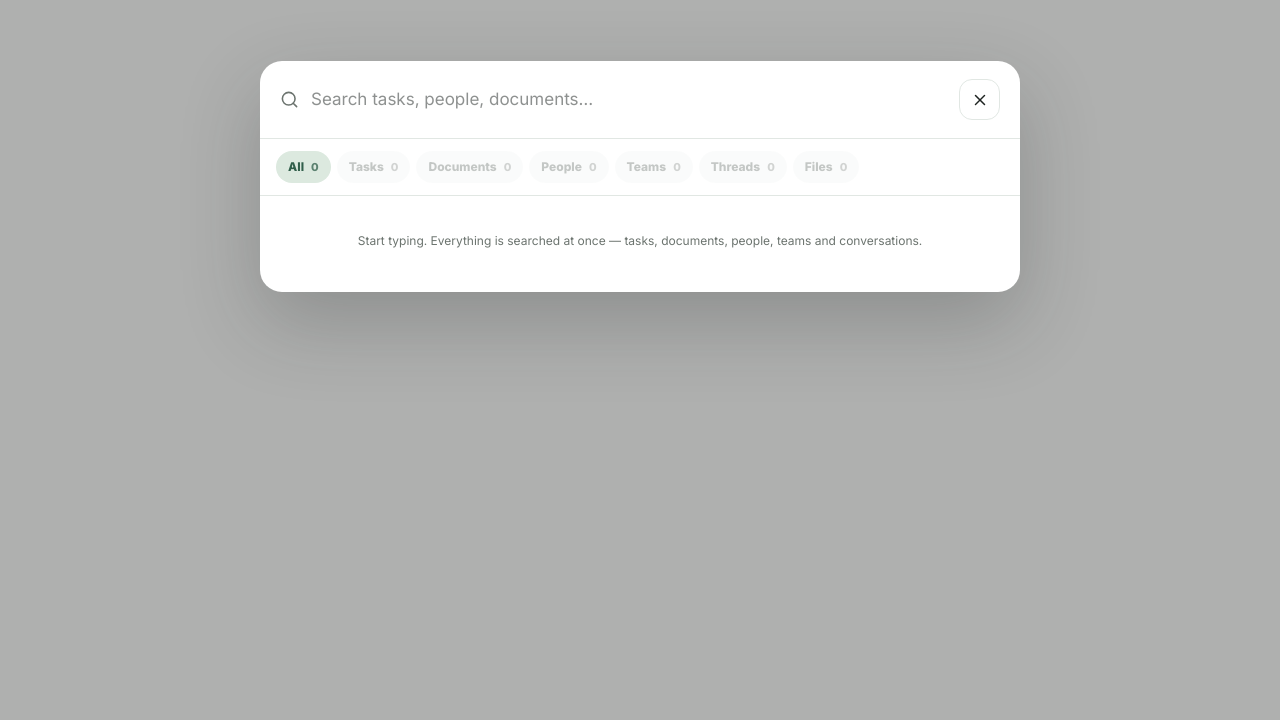
it: SearchOverlay › says so when nothing matches, quoting what was asked
The width and height of the screenshot is (1280, 720).
Type "xyzzy" into the field named "Search jarins". click: (629, 100)
box: top-left (311, 87), bottom-right (947, 112)
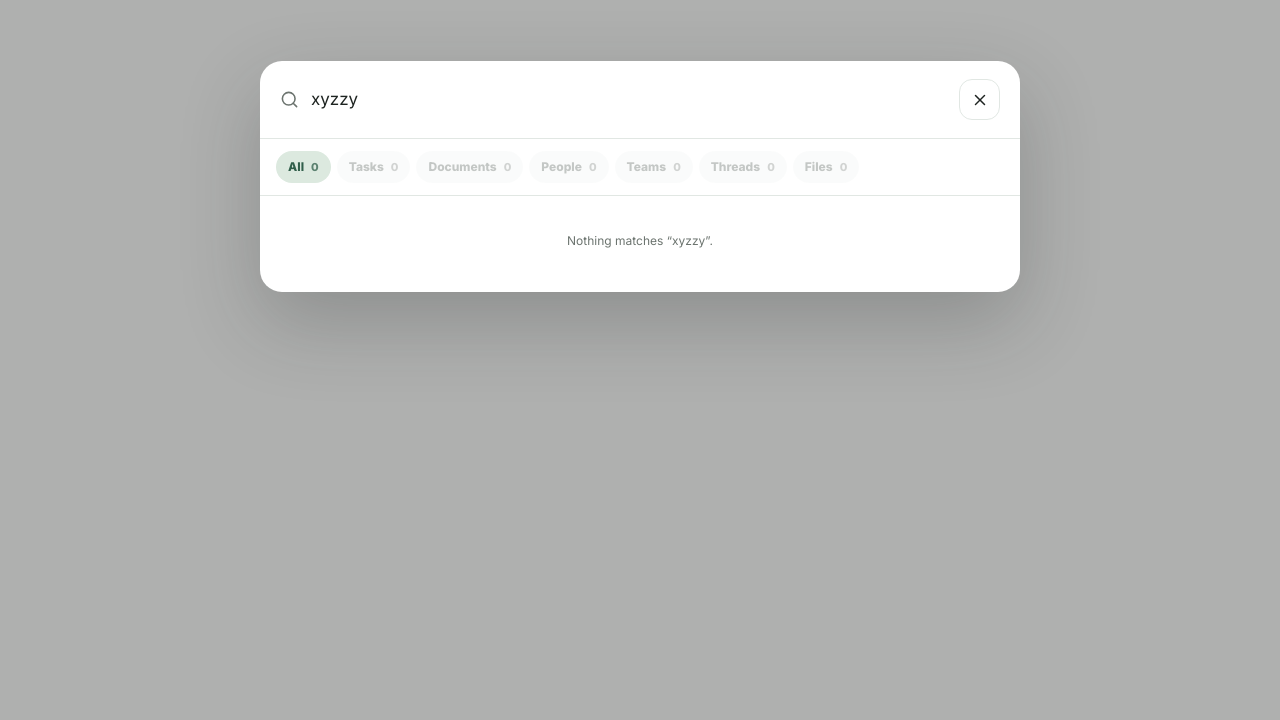
Now the text "Nothing matches “xyzzy”." is shown, box top-left (567, 233), bottom-right (713, 248)
